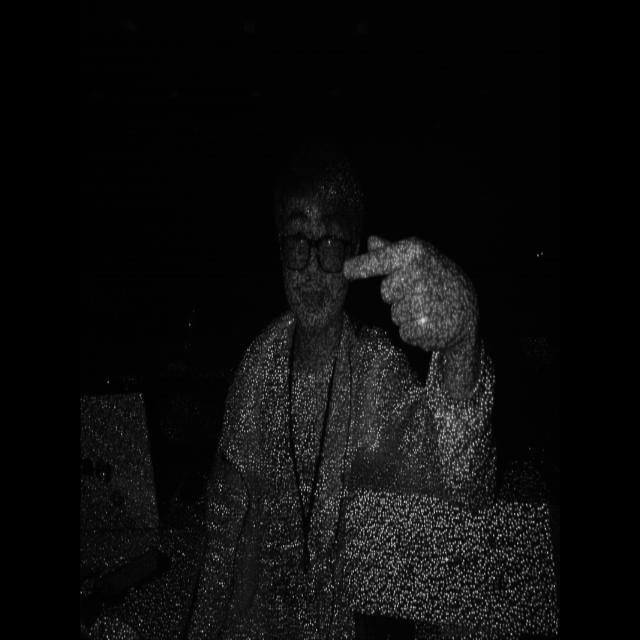G: (343, 205, 495, 388)
